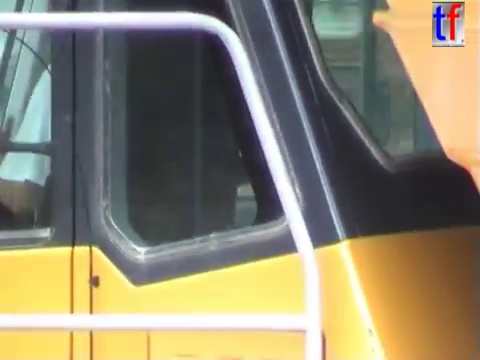truck: (1, 1, 480, 360)
worker: (1, 1, 189, 359)
